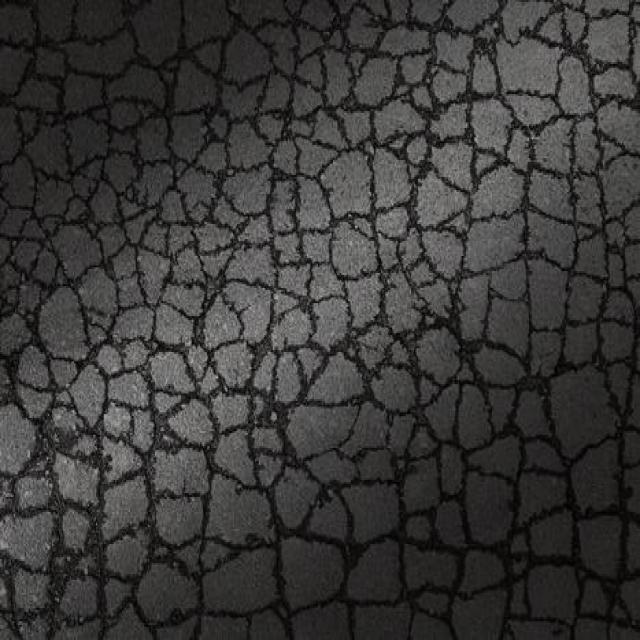Drain Hole: (70, 60, 610, 634)
